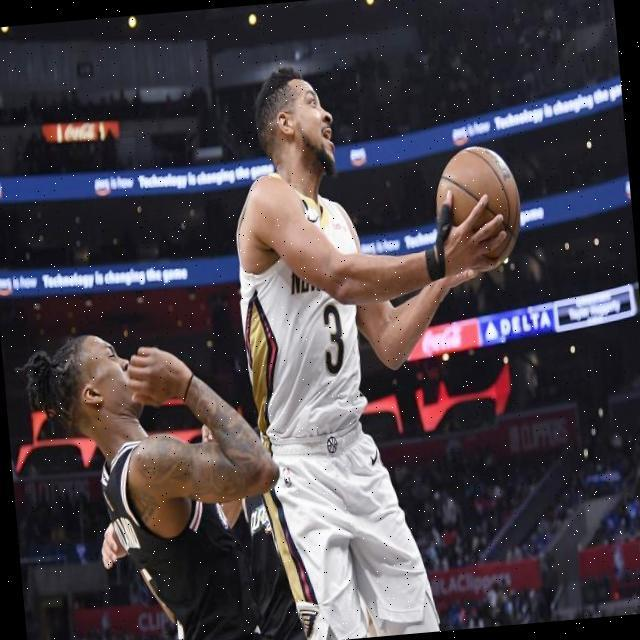ball: (431, 139, 526, 255)
